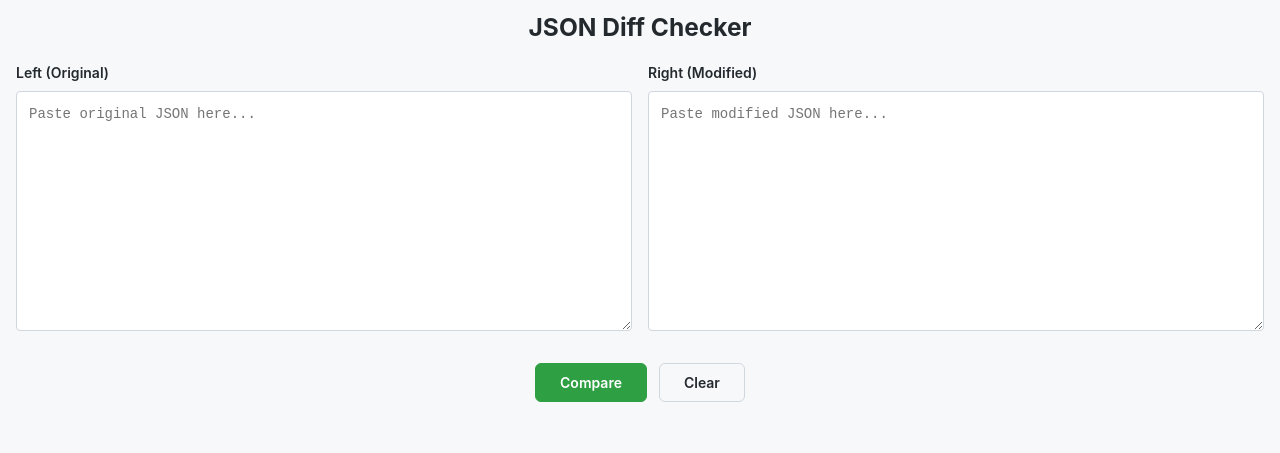
Test case: App — Integration Tests › T2-05 (AC-3): invalid JSON left → error message visible, diff absent
Click the text box named "Left JSON input" at (324, 211), box left=16, top=91, right=632, bottom=331
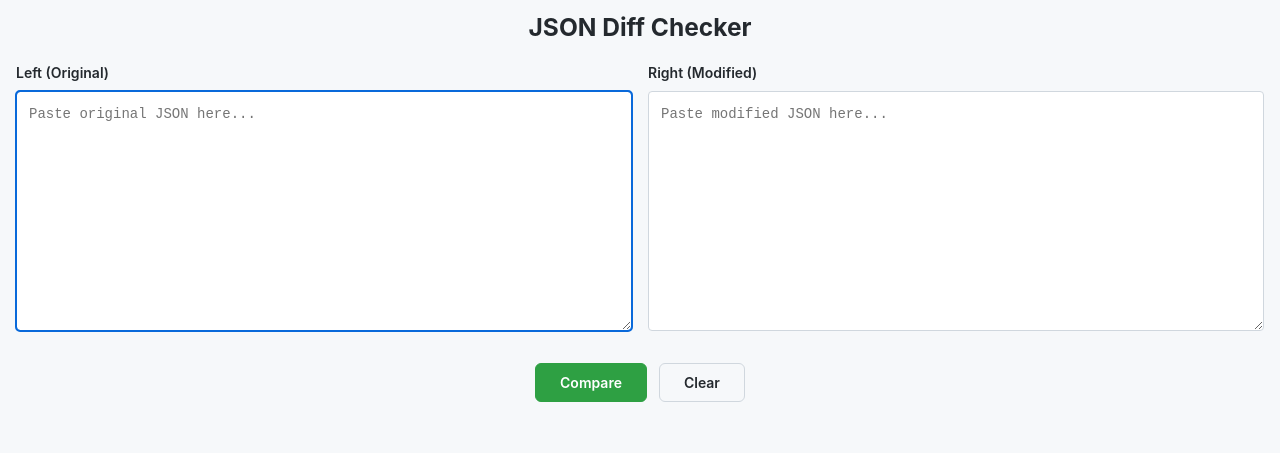
Type keys "{invalid json}"
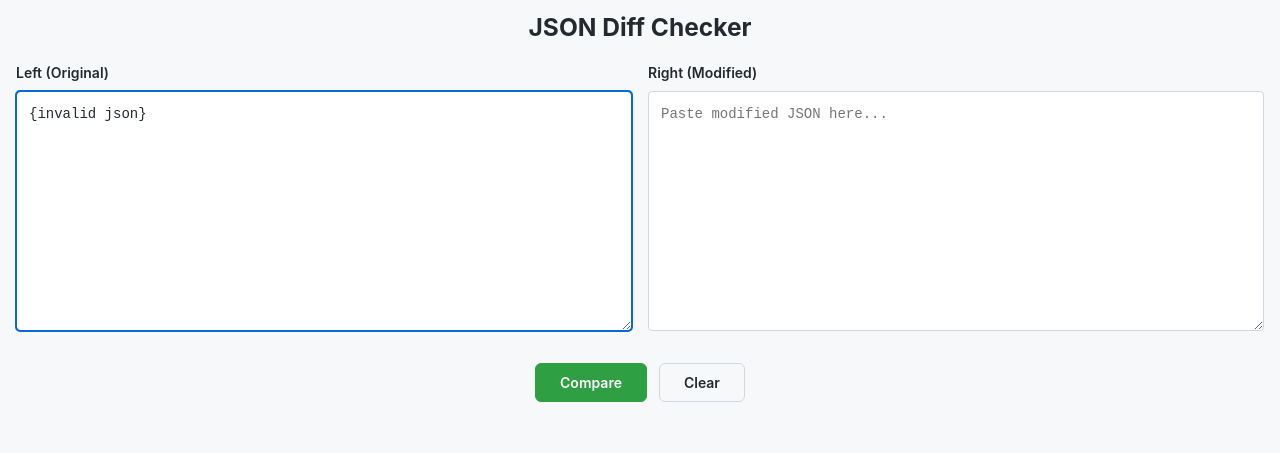
Click the text box named "Right JSON input" at (956, 211), box left=648, top=91, right=1264, bottom=331
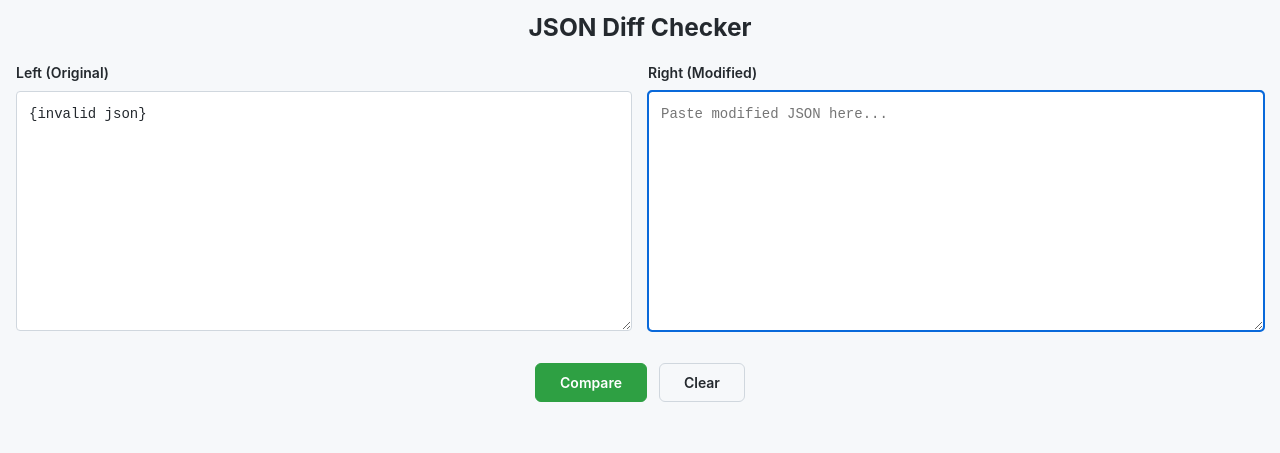
Type keys "{\"a\":1}"
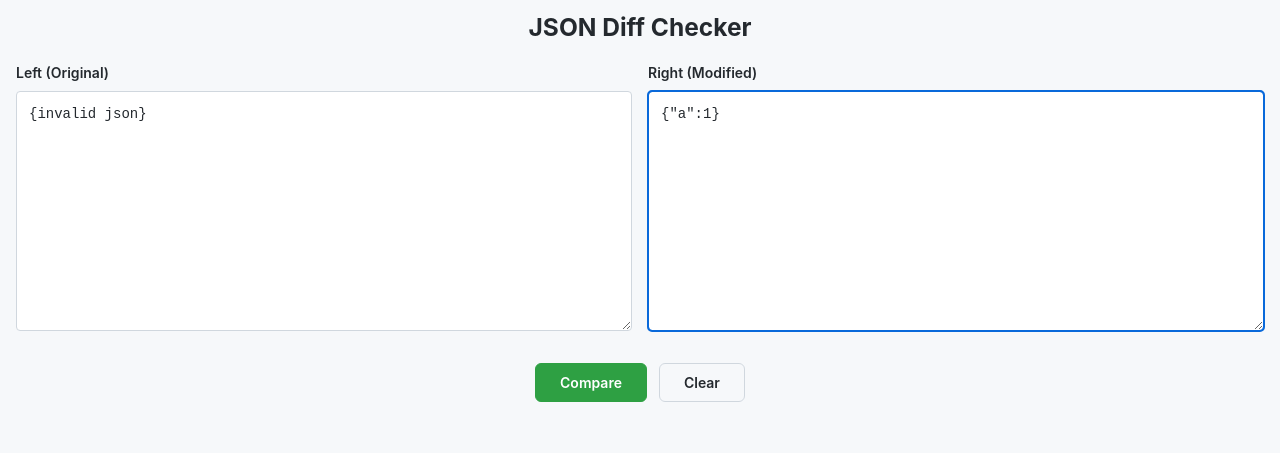
Click the button "Compare" at (591, 382), box left=535, top=363, right=647, bottom=402
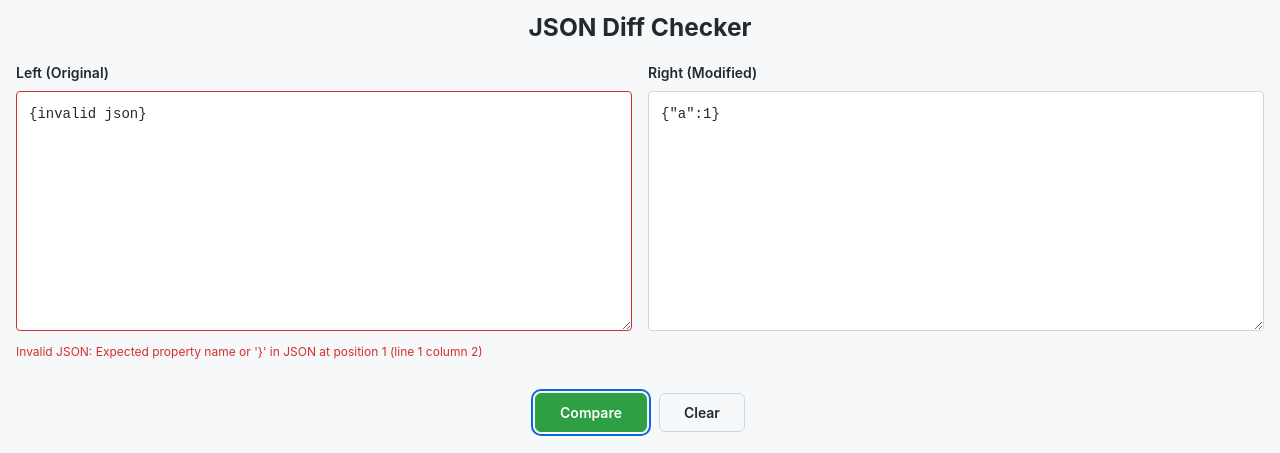
Expected: the message shows "Invalid JSON", left=16, top=344, right=483, bottom=359
